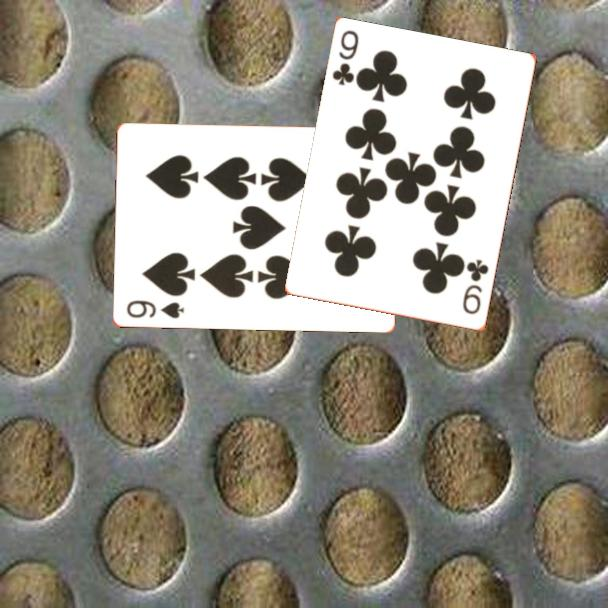c09: (459, 256, 492, 318), (329, 27, 362, 89)
s09: (124, 296, 187, 321)
